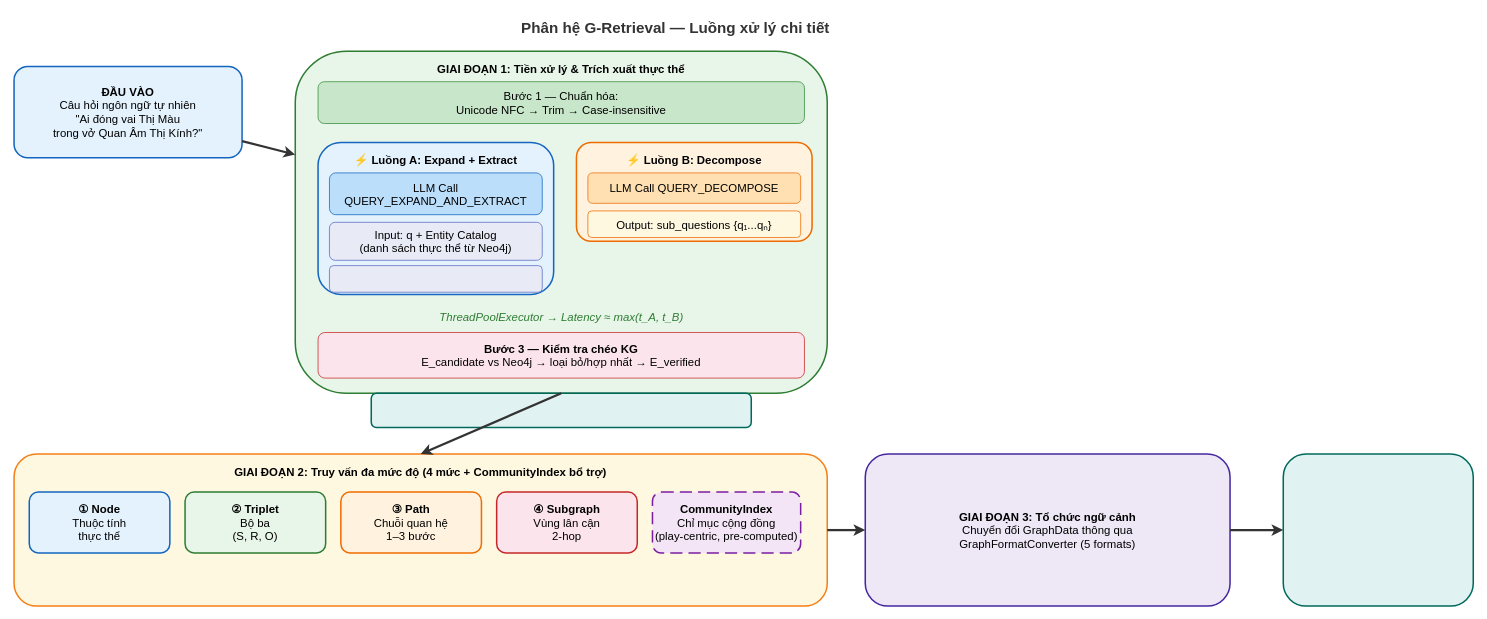
This 1487x619 diagram has some shape labels left out. The shapes that lost their labels are listed below. From the top down, each one's centre as x and y in pixels, then its label:
At point (435, 278): "Output: q' + E_candidate".
At point (561, 410): "→ ProcessedQuery P {original, expanded, sub_q, entities}".
At point (1378, 529): "ĐẦU RA G-Retrieval formatted_contexts C key_facts K graph_data G".
